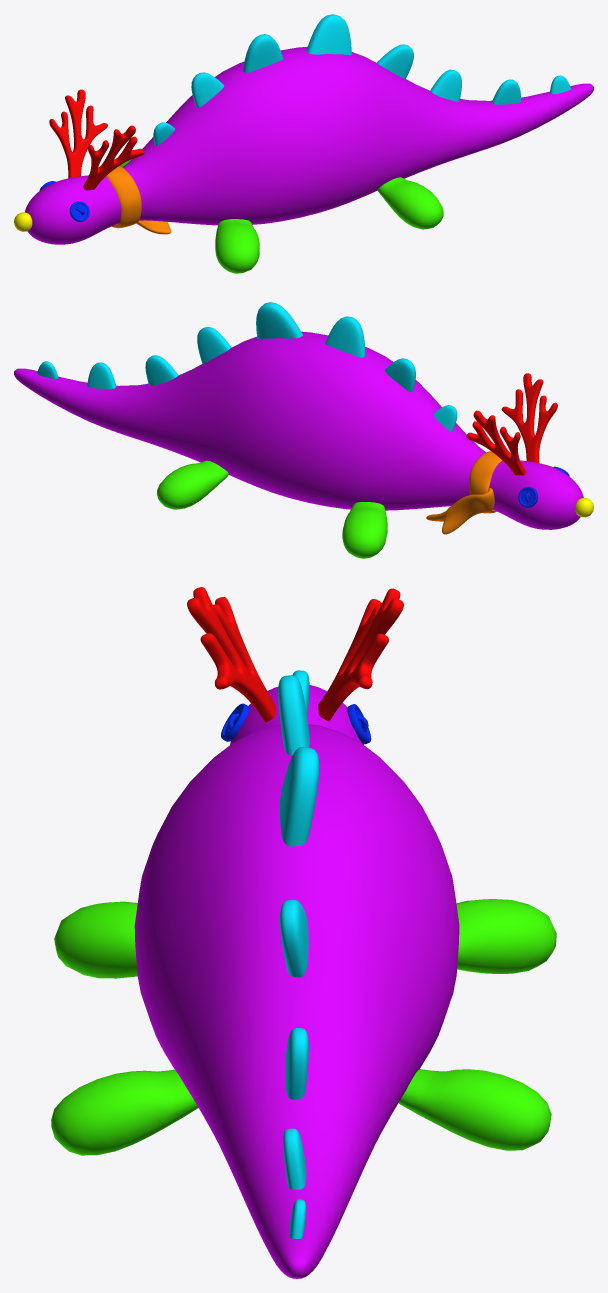
The picture shows the model from 3 angles, top to bottom: view 1: azimuth 30°, elevation 25°; view 2: azimuth 150°, elevation 25°; view 3: azimuth 270°, elevation 25°; orthographic projection. The views are drawn at different scales.
Visible parts, largest first — view 1: dinoxmas (×6); view 2: dinoxmas (×6); view 3: dinoxmas (×5).
Part boxes in pixels (x1,y1,x2,y2): dinoxmas (×6): (25, 14, 593, 273); dinoxmas (×6): (14, 302, 583, 558); dinoxmas (×5): (51, 587, 556, 1278).
Bounding box in the file's own units: 622 × 188 × 236.
